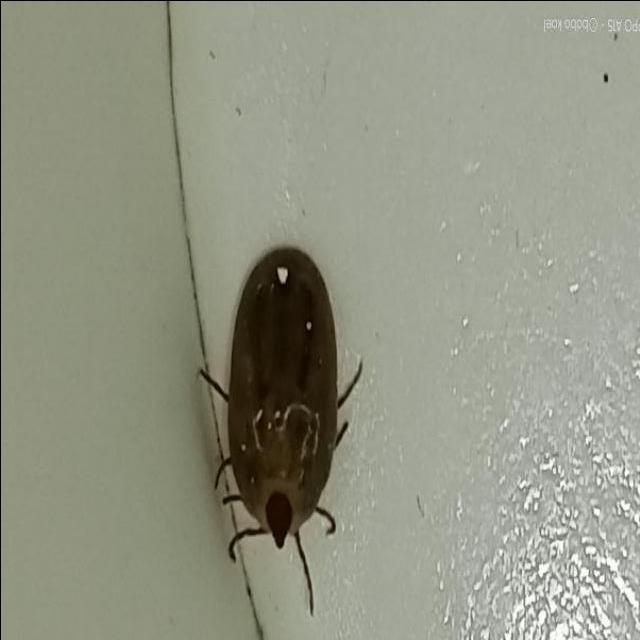Rhipicephalus Sanguineus-F-Fed: (197, 244, 362, 616)
